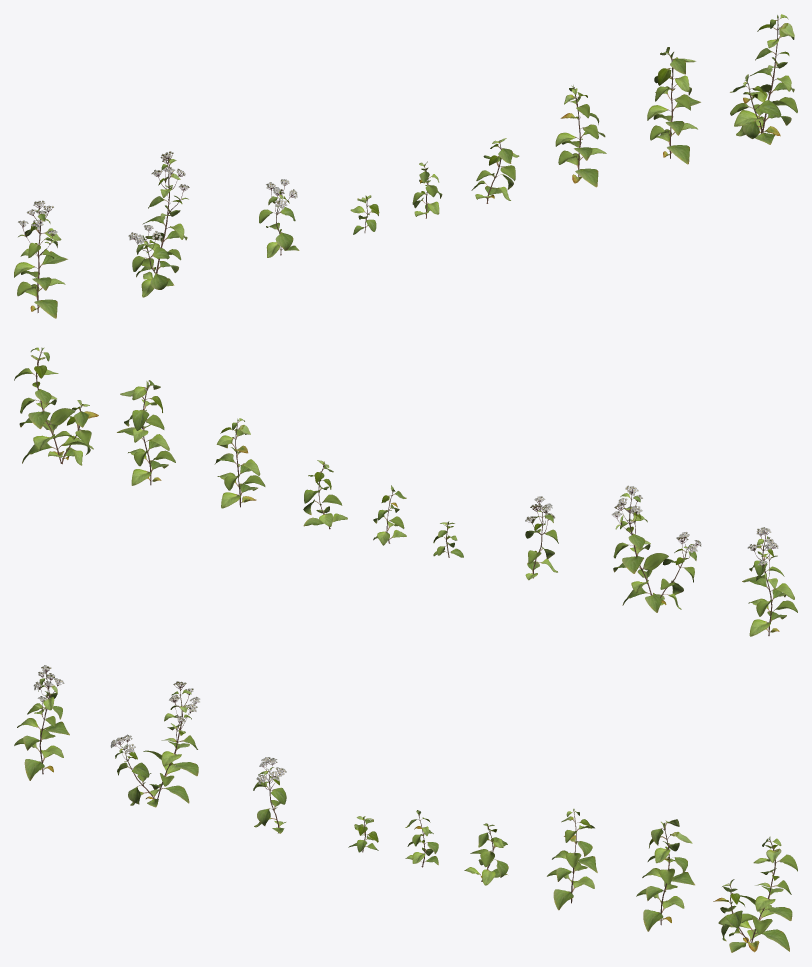
File: shrub_01.glb
The picture shows the model from 3 angles, top to bottom: view 1: azimuth 30°, elevation 25°; view 2: azimuth 150°, elevation 25°; view 3: azimuth 330°, elevation 25°; orthographic projection. The views are drawn at different scales.
Parts seen in each view (by area): view 1: shrub_01_a; view 2: shrub_01_a; view 3: shrub_01_a.
Part boxes in pixels (bbox=[...]): shrub_01_a: bbox=[14, 14, 797, 318]; shrub_01_a: bbox=[14, 347, 797, 636]; shrub_01_a: bbox=[14, 665, 797, 952].
Bounding box in the file's own units: 2.59 × 0.396 × 0.2185.
1 material, 1 textured.
